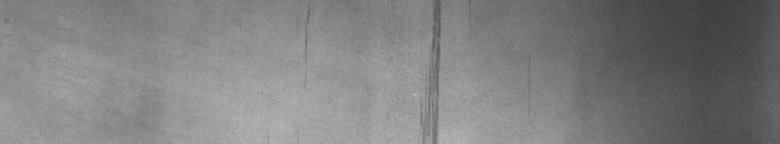hd: (424, 4, 445, 136)
